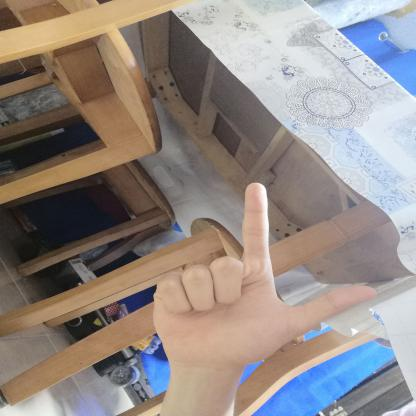LAAM: (137, 173, 389, 386)
